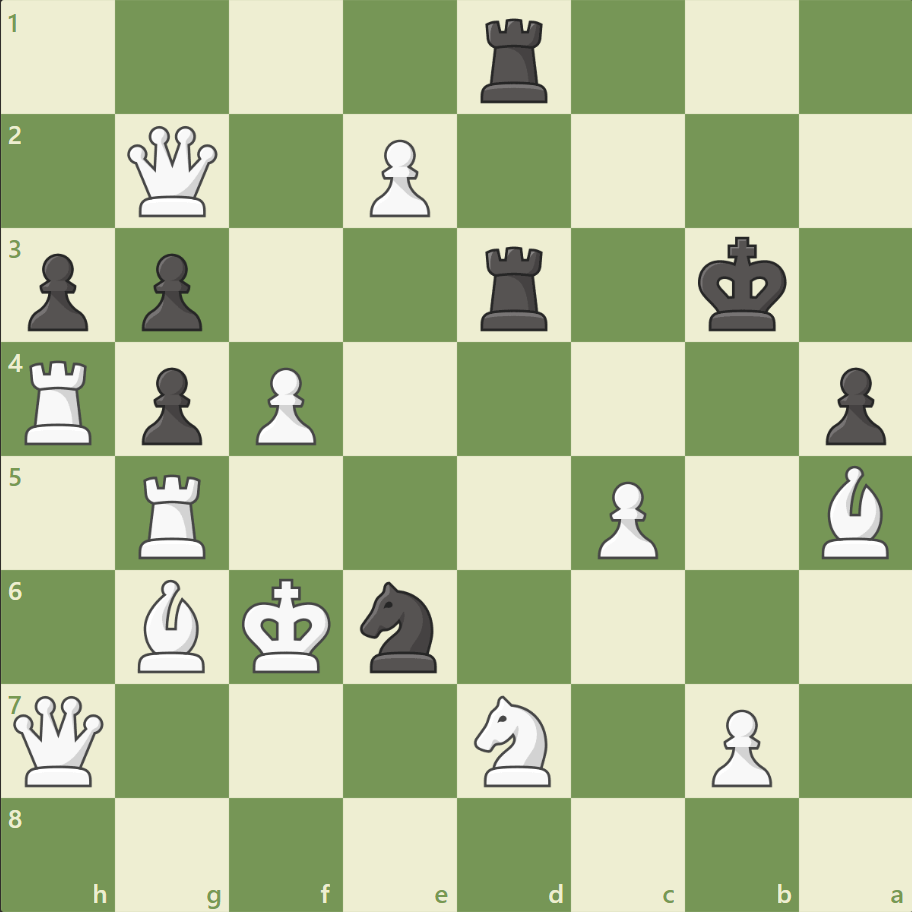B: (812, 460, 896, 563), (131, 574, 215, 676)
K: (238, 571, 338, 679)
N: (465, 688, 562, 791)
P: (701, 700, 776, 791), (247, 359, 322, 450), (588, 473, 662, 564), (361, 132, 435, 223)
Q: (124, 122, 223, 222), (10, 690, 109, 789)
R: (19, 352, 102, 449), (133, 466, 215, 563)
k: (692, 231, 792, 339)
n: (351, 575, 449, 677)
p: (133, 359, 208, 450), (133, 246, 208, 337), (20, 246, 95, 337), (815, 359, 889, 450)
r: (473, 239, 556, 336), (473, 12, 556, 109)
